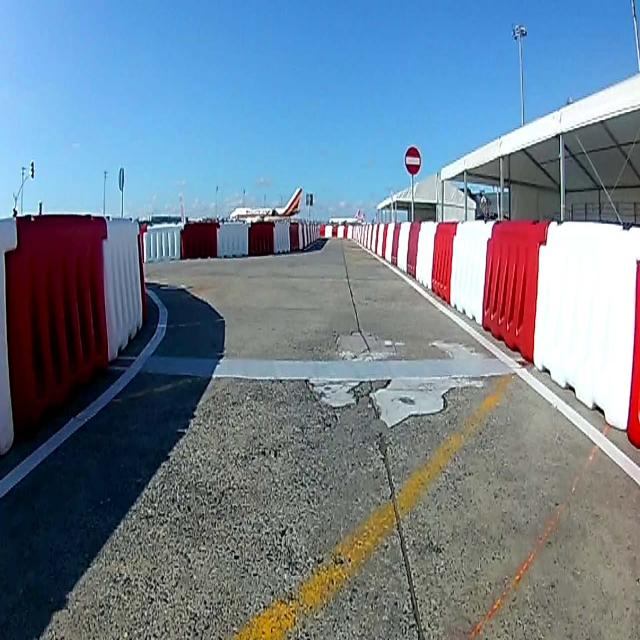girisyok: (404, 145, 422, 174)
